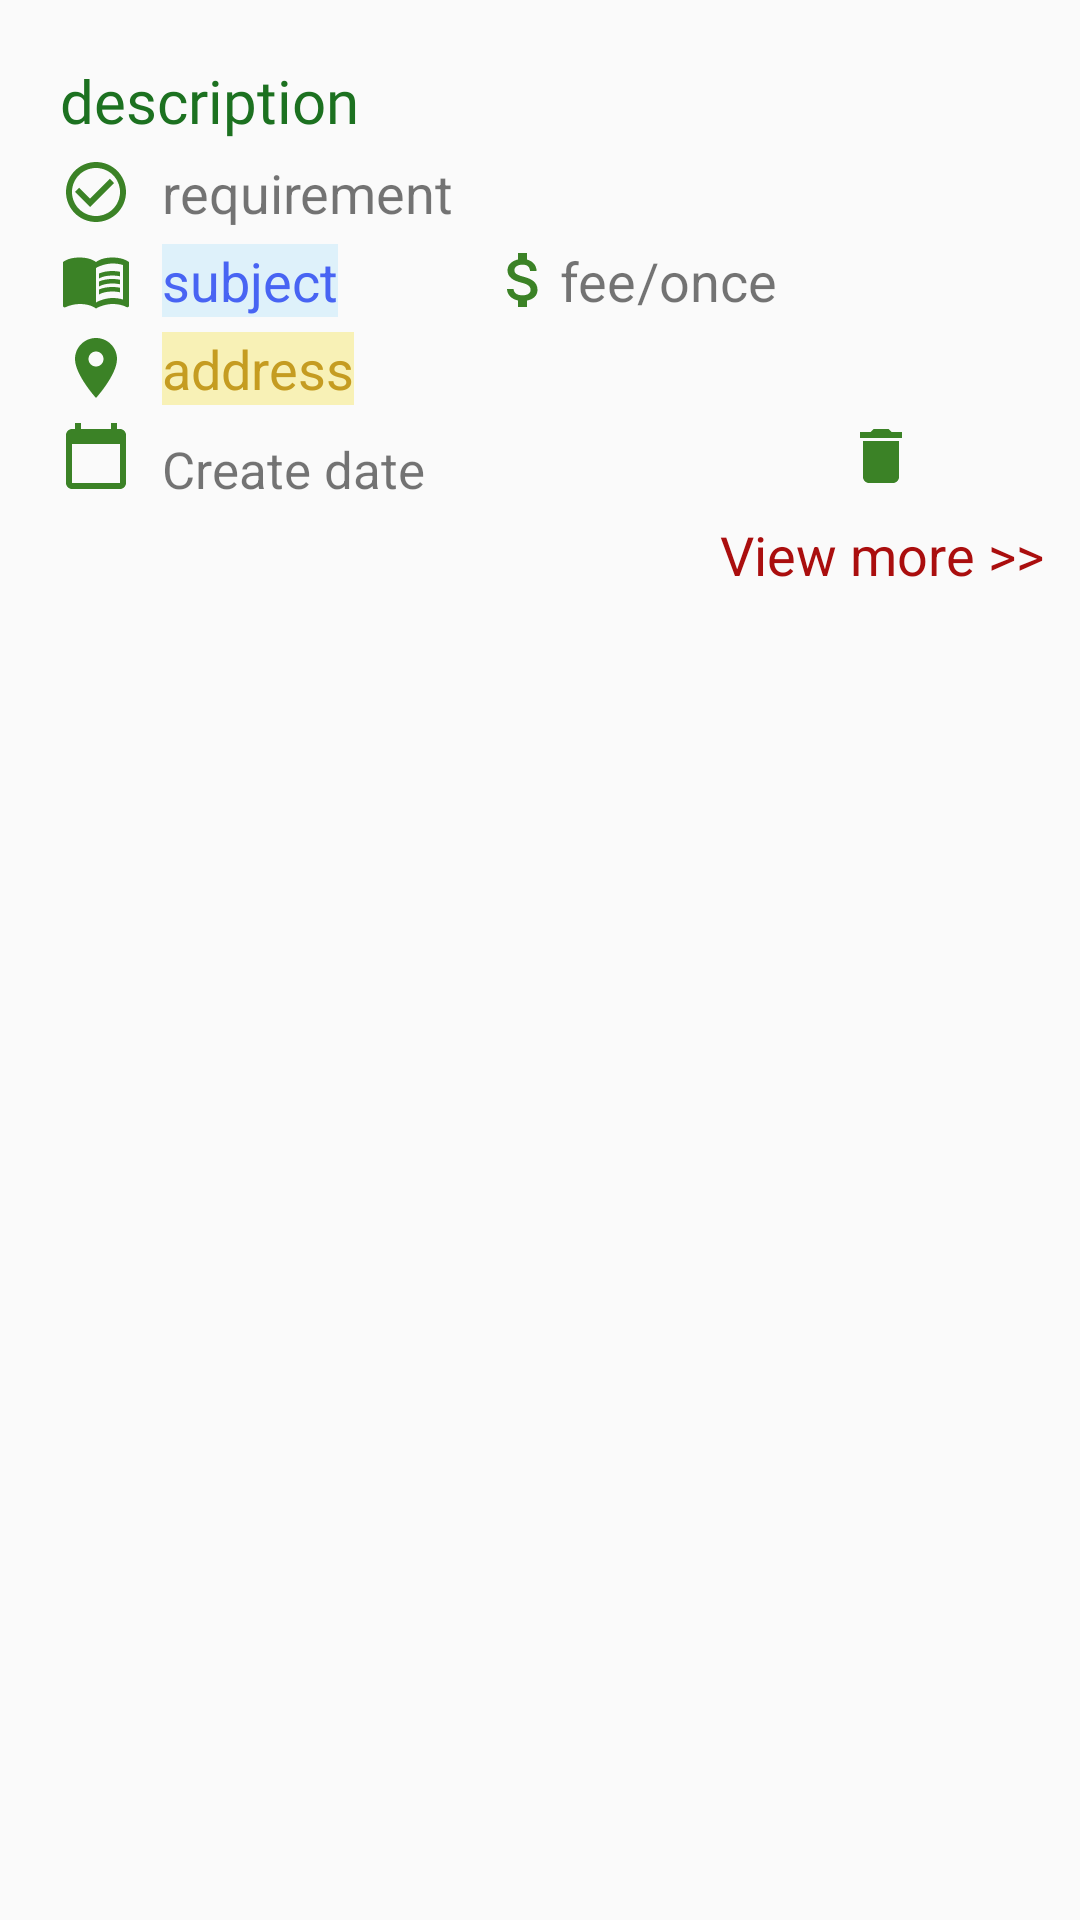

Locate icon controls on the screen. Image size 1080w x 1920h, boxes as (x1, y1, x2, y2).
book: (63, 257, 129, 309)
calendar: (66, 423, 126, 489)
check: (66, 162, 126, 222)
delete: (860, 429, 902, 483)
money: (507, 253, 538, 307)
place: (75, 338, 117, 398)
